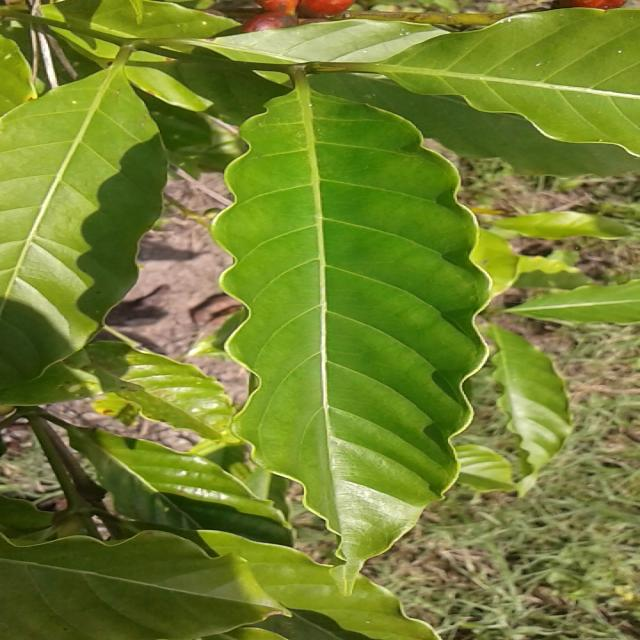Sanas: (210, 84, 493, 564)
